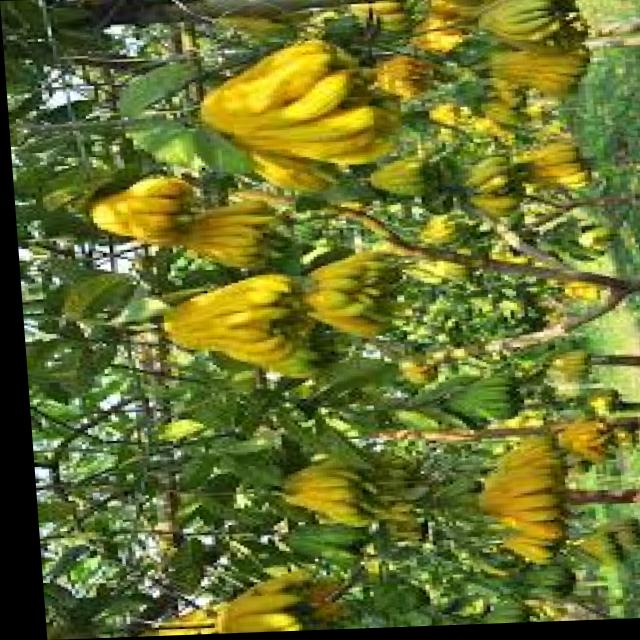PhatThu: (190, 42, 386, 178), (157, 274, 303, 380), (287, 250, 403, 347), (461, 441, 555, 559), (143, 575, 295, 637), (84, 175, 186, 251), (178, 196, 275, 271), (269, 458, 361, 525), (483, 47, 597, 94), (473, 0, 592, 42), (454, 155, 512, 228), (446, 373, 515, 423), (520, 143, 586, 193), (362, 159, 428, 203), (413, 0, 464, 53), (378, 57, 432, 100), (554, 421, 605, 466), (545, 348, 588, 384)
